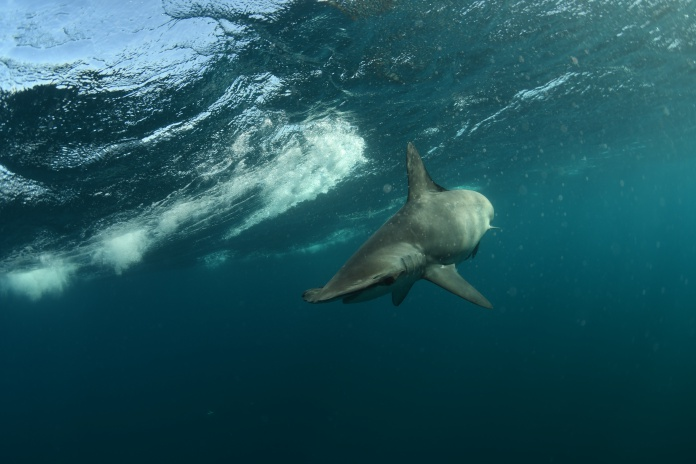Hammer: (287, 129, 516, 326)
